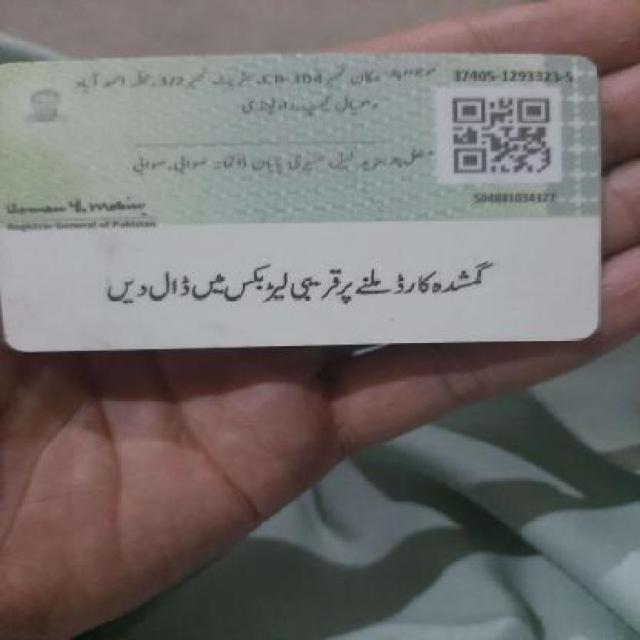Back: (2, 53, 604, 344)
